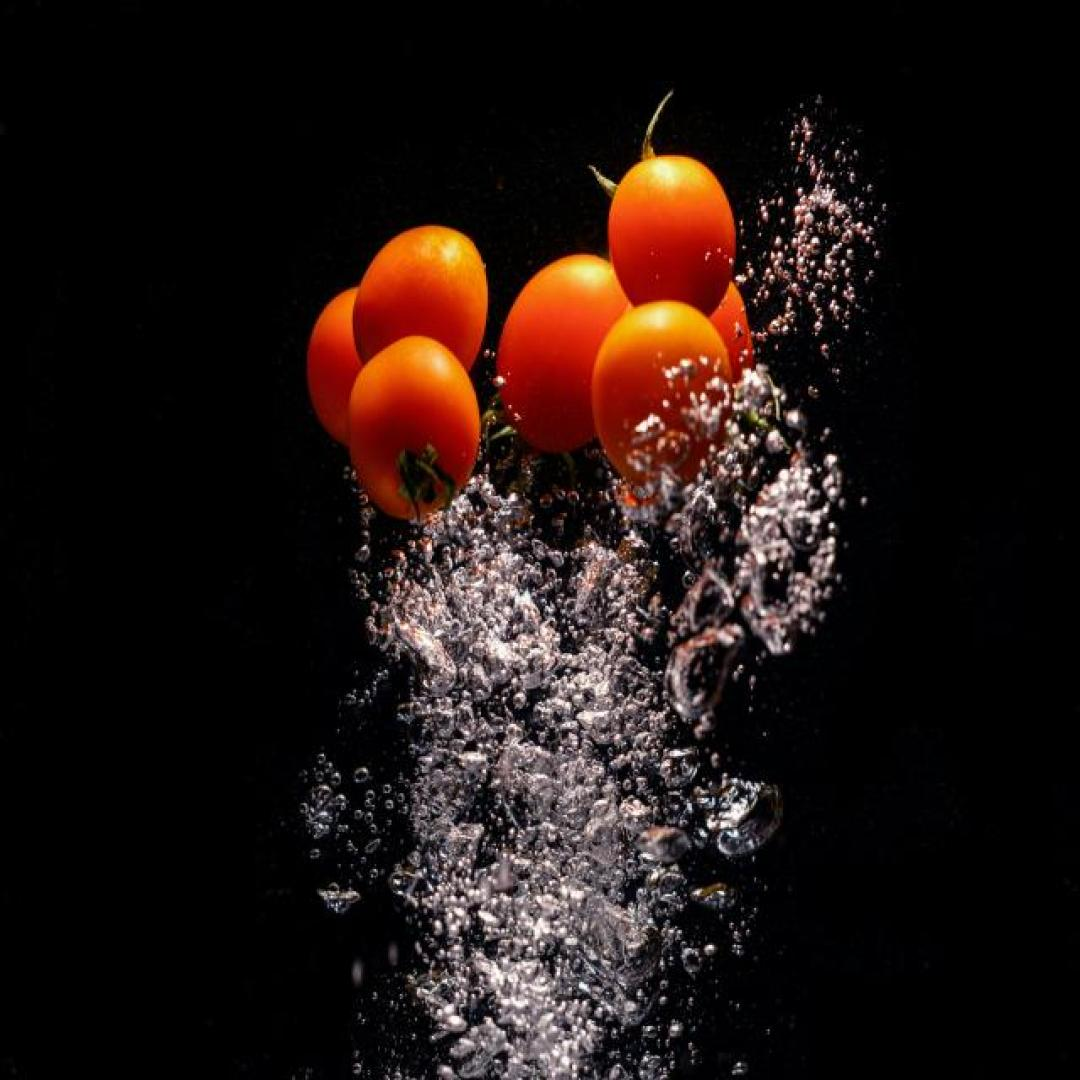matang: (594, 300, 734, 502), (350, 342, 480, 520), (356, 226, 486, 397), (609, 155, 736, 326)
